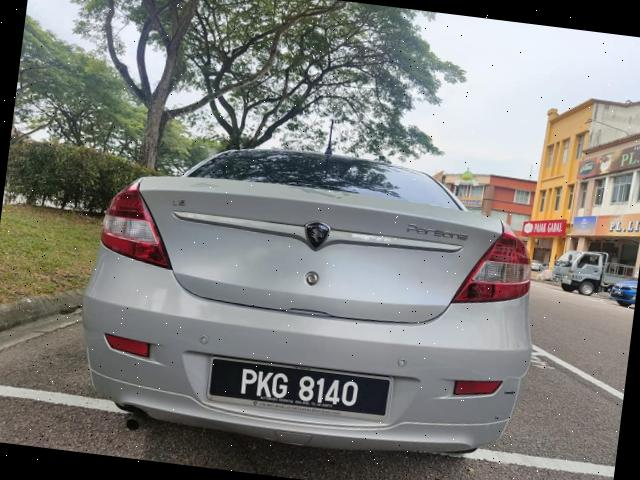License_Plate: (220, 363, 372, 416)
car: (73, 117, 560, 471)
